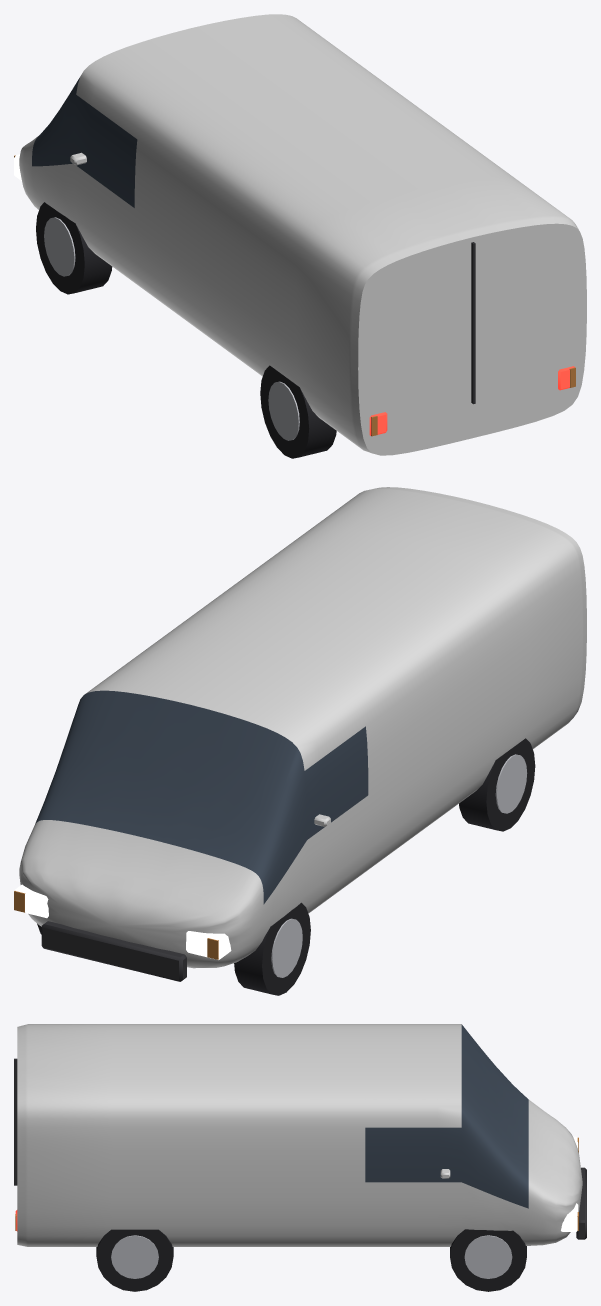
Rendered from auto_freq_van_lod1.glb.
3 renders of one model, top to bottom at view 1: azimuth 30°, elevation 25°; view 2: azimuth 150°, elevation 25°; view 3: azimuth 270°, elevation 25°, orthographic. The views are drawn at different scales.
Parts seen in each view (by area): view 1: Karosserie, Rad_HL, Rad_VL; view 2: Karosserie, Rad_VL, Rad_HL; view 3: Karosserie, Rad_HR, Rad_VR.
Boxes of the visible parts, <box> form: Karosserie: <box>14,14,586,455</box>; Rad_HL: <box>260,365,336,458</box>; Rad_VL: <box>36,202,112,294</box>; Karosserie: <box>14,487,586,981</box>; Rad_VL: <box>234,902,310,995</box>; Rad_HL: <box>459,738,535,831</box>; Karosserie: <box>14,1024,586,1246</box>; Rad_HR: <box>96,1229,173,1291</box>; Rad_VR: <box>450,1229,526,1291</box>.
Size of the model in its own units: 2.18 by 2.01 by 5.35.
